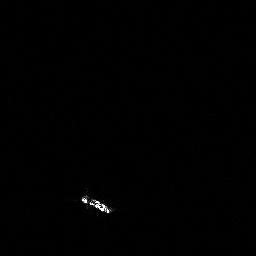ship: (78, 192, 116, 217)
